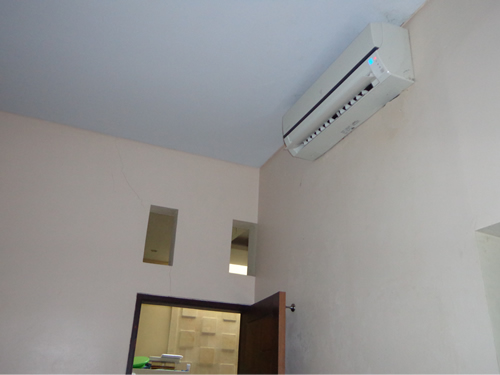AC: (267, 50, 409, 158)
